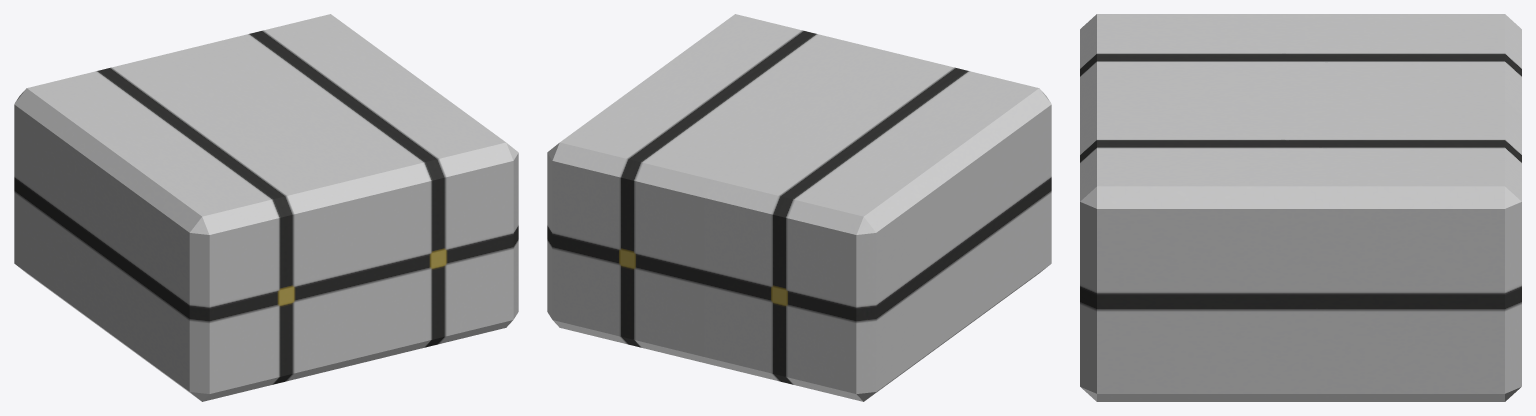
Rendered from Cargo_Box_2x2.fbx.
3 renders of one model, left to right at view 1: azimuth 30°, elevation 25°; view 2: azimuth 150°, elevation 25°; view 3: azimuth 270°, elevation 25°, orthographic. The views are drawn at different scales.
Parts seen in each view (by area): view 1: Cargo_Box_2x2; view 2: Cargo_Box_2x2; view 3: Cargo_Box_2x2.
Part boxes in pixels (bbox=[...]): Cargo_Box_2x2: bbox=[14, 14, 518, 401]; Cargo_Box_2x2: bbox=[547, 14, 1051, 401]; Cargo_Box_2x2: bbox=[1080, 14, 1521, 401].
Bounding box in the file's own units: 2.07 × 2.07 × 1.12.
